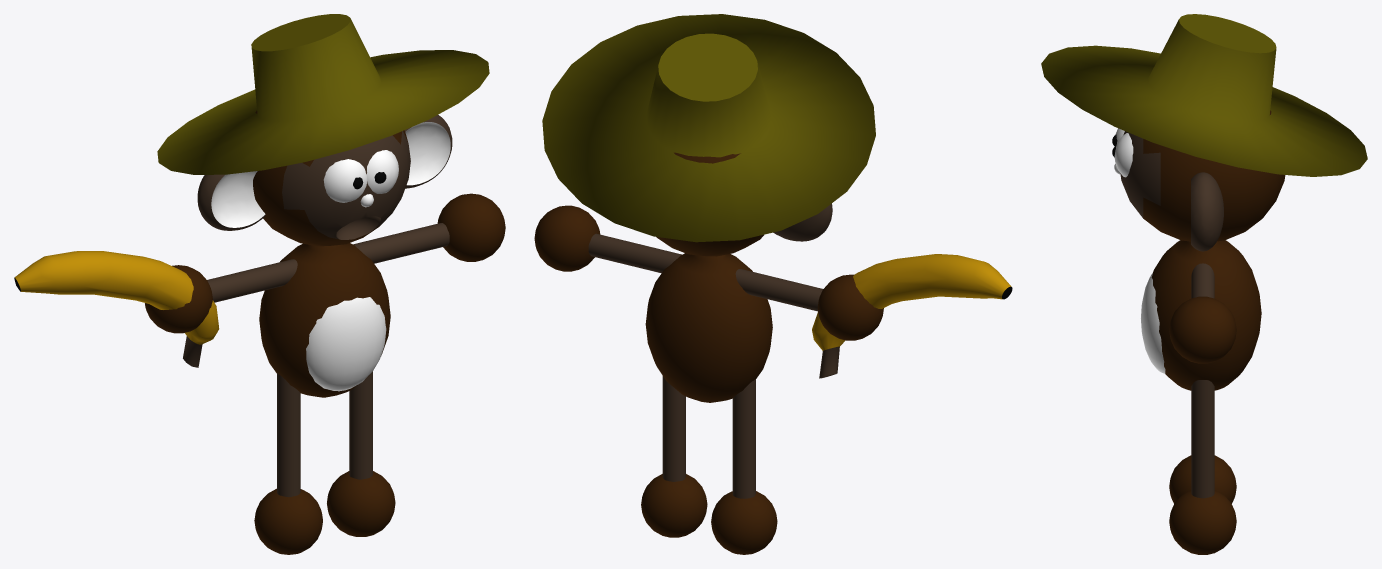
Rendered from Monkey Banana Right.FBX.
3 renders of one model, left to right at view 1: azimuth 30°, elevation 25°; view 2: azimuth 150°, elevation 25°; view 3: azimuth 270°, elevation 25°, orthographic. The views are drawn at different scales.
Parts seen in each view (by area): view 1: Body; view 2: Body; view 3: Body.
Part boxes in pixels (x1=…): Body: x1=14, y1=14, x2=505, y2=554; Body: x1=534, y1=14, x2=1012, y2=554; Body: x1=1041, y1=14, x2=1367, y2=554.
Size of the model in its own units: 8.17 by 8.32 by 4.83.
